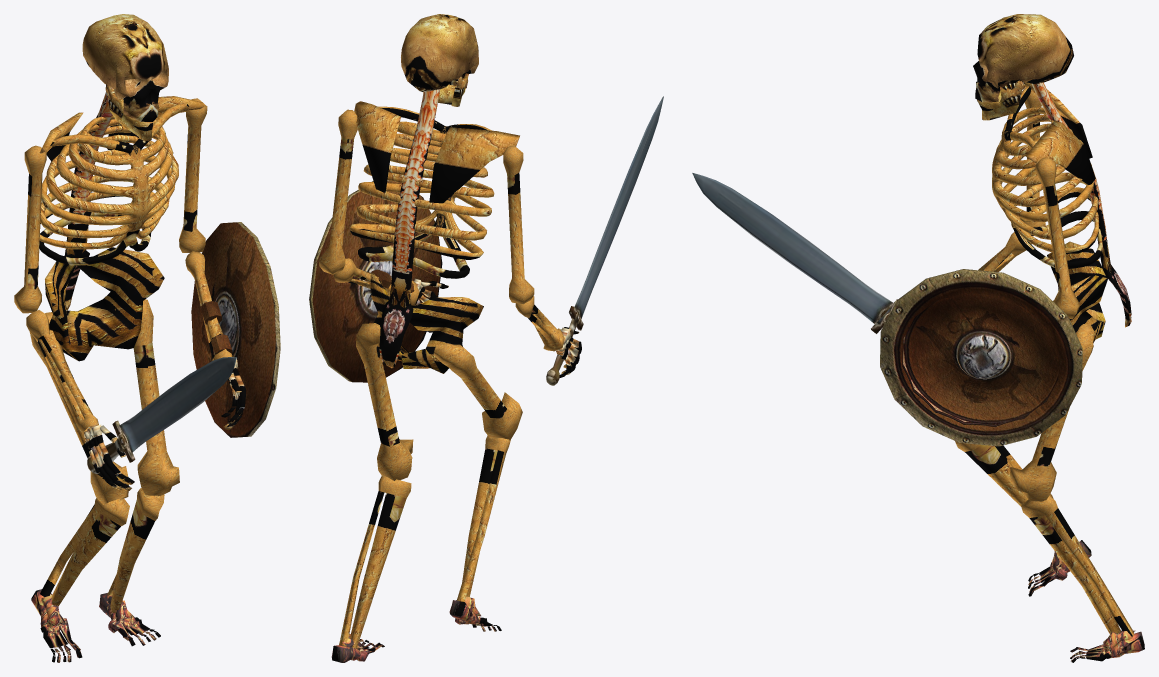
Rendered from Skeleton_000013.obj.
3 renders of one model, left to right at view 1: azimuth 30°, elevation 25°; view 2: azimuth 150°, elevation 25°; view 3: azimuth 270°, elevation 25°, orthographic. The views are drawn at different scales.
Visible parts, largest first — view 1: Costillar, Shield_Shield.001, Coxis, Skull, Tibia, Femur, Humero, Sword, Radio, Feet, Hands, Omoplato (+1 smaller); view 2: Costillar, Shield_Shield.001, Tibia, Femur, Omoplato, Humero, Skull, Coxis, Sword, Radio, Feet, Hands (+1 smaller); view 3: Shield_Shield.001, Costillar, Sword, Skull, Tibia, Humero, Omoplato, Femur, Coxis, Feet, Mandibula, Radio.
Part boxes in pixels (left/top/right/bottom): Costillar: left=39, top=89, right=188, bottom=310; Shield_Shield.001: left=191, top=222, right=280, bottom=437; Coxis: left=45, top=247, right=164, bottom=361; Skull: left=82, top=14, right=168, bottom=121; Tibia: left=40, top=488, right=164, bottom=613; Femur: left=29, top=299, right=179, bottom=504; Humero: left=14, top=98, right=207, bottom=313; Sword: left=87, top=357, right=236, bottom=474; Radio: left=26, top=251, right=232, bottom=432; Feet: left=31, top=589, right=160, bottom=662; Hands: left=84, top=358, right=245, bottom=491; Omoplato: left=40, top=96, right=205, bottom=161; Costillar: left=349, top=89, right=494, bottom=368; Shield_Shield.001: left=309, top=180, right=442, bottom=382; Tibia: left=339, top=435, right=510, bottom=648; Femur: left=356, top=323, right=522, bottom=480; Omoplato: left=354, top=101, right=519, bottom=203; Humero: left=318, top=109, right=534, bottom=304; Skull: left=401, top=14, right=478, bottom=92; Coxis: left=370, top=274, right=483, bottom=373; Sword: left=546, top=96, right=663, bottom=385; Radio: left=333, top=258, right=564, bottom=351; Feet: left=331, top=596, right=501, bottom=662; Hands: left=411, top=278, right=581, bottom=377; Shield_Shield.001: left=880, top=269, right=1082, bottom=446; Costillar: left=992, top=82, right=1131, bottom=327; Sword: left=692, top=173, right=897, bottom=333; Skull: left=973, top=14, right=1073, bottom=102; Tibia: left=955, top=441, right=1133, bottom=636; Humero: left=1024, top=91, right=1080, bottom=318; Omoplato: left=1024, top=82, right=1095, bottom=184; Femur: left=1009, top=324, right=1093, bottom=501; Coxis: left=1047, top=241, right=1107, bottom=342; Feet: left=1028, top=540, right=1144, bottom=662; Mandibula: left=977, top=80, right=1024, bottom=120; Radio: left=978, top=232, right=1031, bottom=271.
Size of the model in its own units: 2.87 by 8.52 by 5.63.
5 materials, 5 textured.
